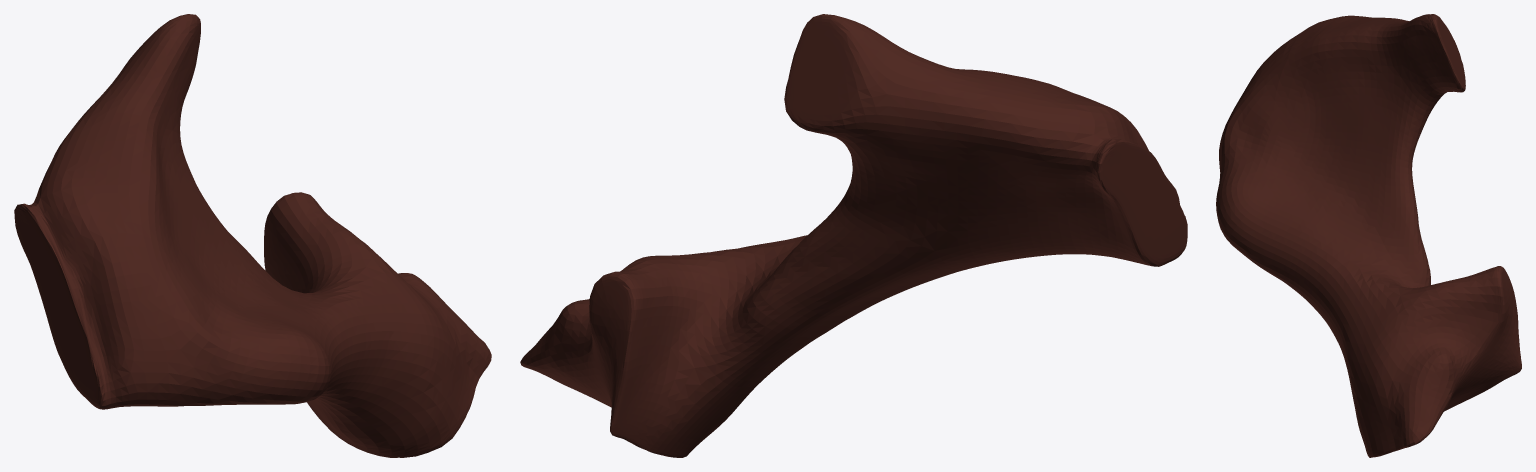
The model's file is rightPelvis1Model.obj.
3 renders of one model, left to right at view 1: azimuth 30°, elevation 25°; view 2: azimuth 150°, elevation 25°; view 3: azimuth 270°, elevation 25°, orthographic. The views are drawn at different scales.
Parts seen in each view (by area): view 1: grp1; view 2: grp1; view 3: grp1.
Part boxes in pixels (x1=…): grp1: x1=14, y1=14, x2=491, y2=457; grp1: x1=520, y1=14, x2=1187, y2=457; grp1: x1=1216, y1=14, x2=1521, y2=457.
Bounding box in the file's own units: 90.11 × 78.61 × 60.25.
